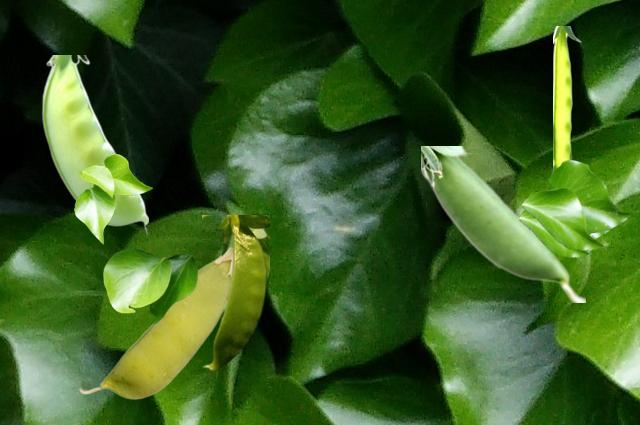pea: (421, 146, 584, 301), (79, 247, 231, 398), (41, 55, 147, 235), (202, 215, 268, 370), (553, 26, 580, 169)
